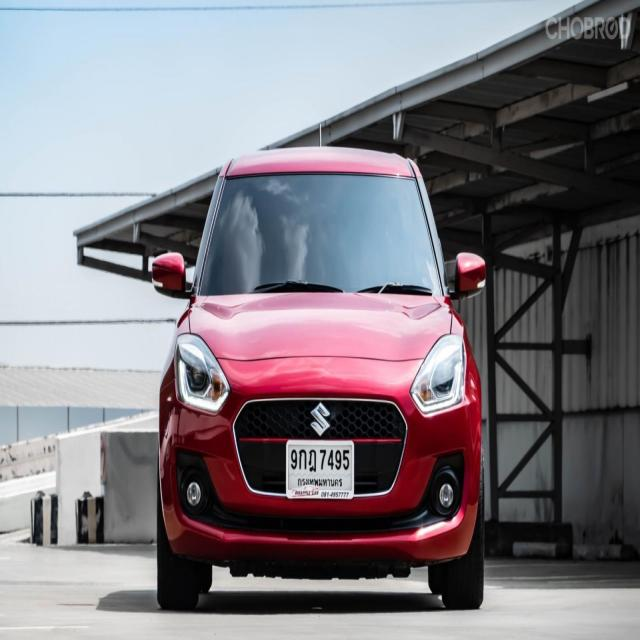license_plate: (286, 437, 354, 502)
